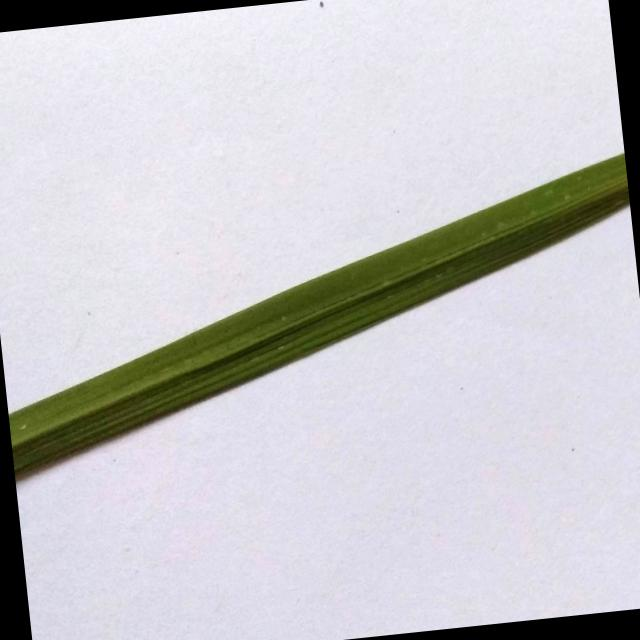Rice_Healthy: (8, 153, 629, 475)
